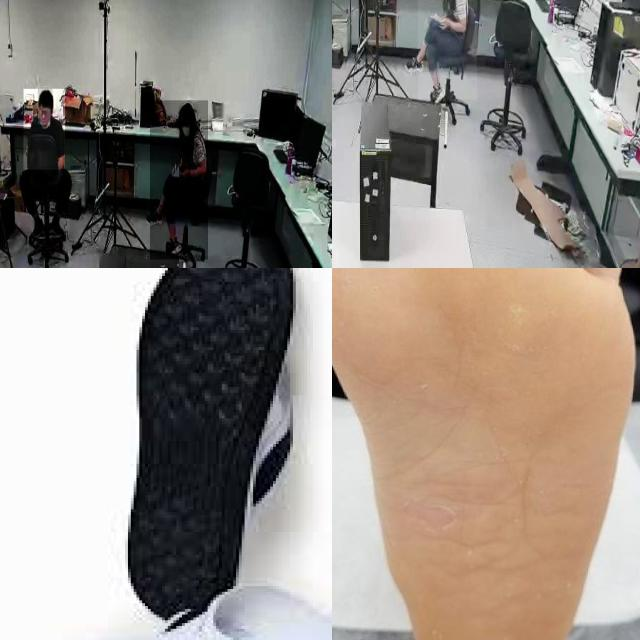Barefoots: (332, 268, 640, 640)
Sandals: (0, 268, 332, 640)
face_mask: (180, 115, 192, 138)
face_nomask: (38, 108, 51, 125)
hand_noglove: (437, 14, 451, 31), (179, 166, 191, 180)
head_nohelmet: (38, 89, 53, 107), (178, 102, 196, 116)
person: (150, 100, 208, 260), (418, 0, 477, 100), (24, 89, 66, 170)
shoes: (160, 234, 184, 263), (49, 212, 69, 246), (427, 78, 445, 111), (27, 213, 45, 243), (404, 55, 425, 77), (144, 207, 164, 228)
